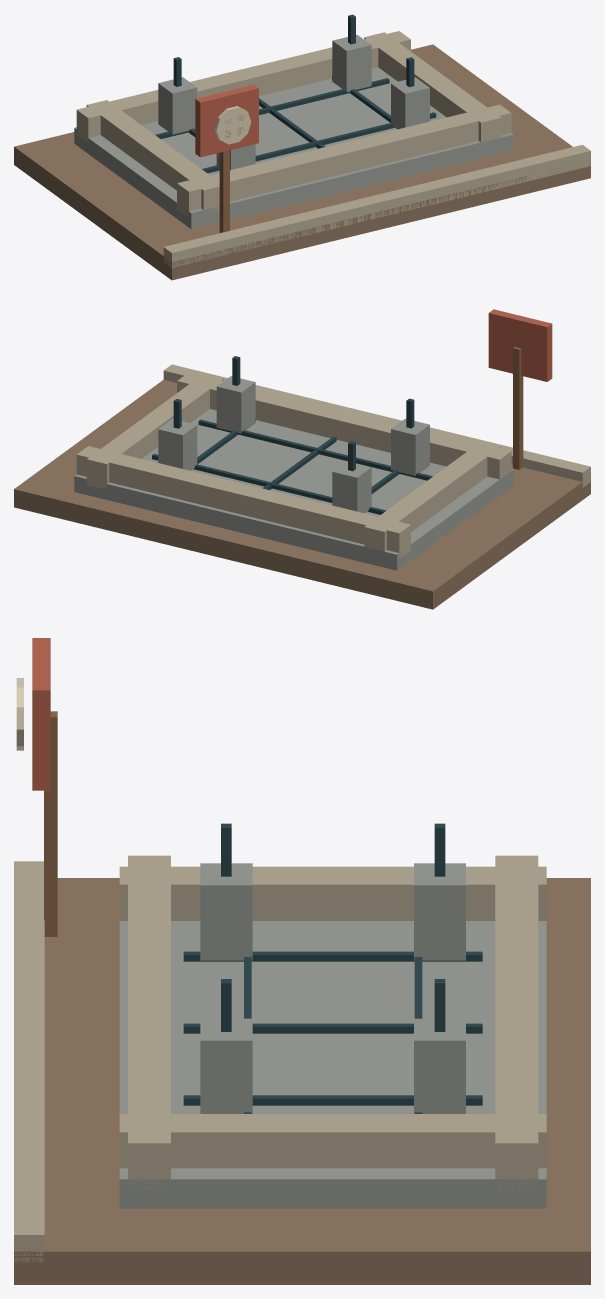
The model's file is cinema-sunrise-foundation.glb.
The picture shows the model from 3 angles, top to bottom: view 1: azimuth 30°, elevation 25°; view 2: azimuth 150°, elevation 25°; view 3: azimuth 270°, elevation 25°; orthographic projection. The views are drawn at different scales.
Parts seen in each view (by area): view 1: cinema; view 2: cinema; view 3: cinema.
Part boxes in pixels (x1,y1,x2,y2): cinema: [14, 14, 590, 280]; cinema: [14, 309, 590, 609]; cinema: [14, 638, 590, 1284].
Size of the model in its own units: 2.88 by 1.09 by 1.88.
